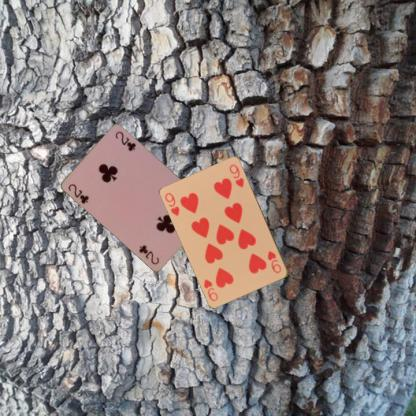2c: (66, 182, 90, 204)
9h: (162, 190, 181, 217), (265, 248, 283, 274)
